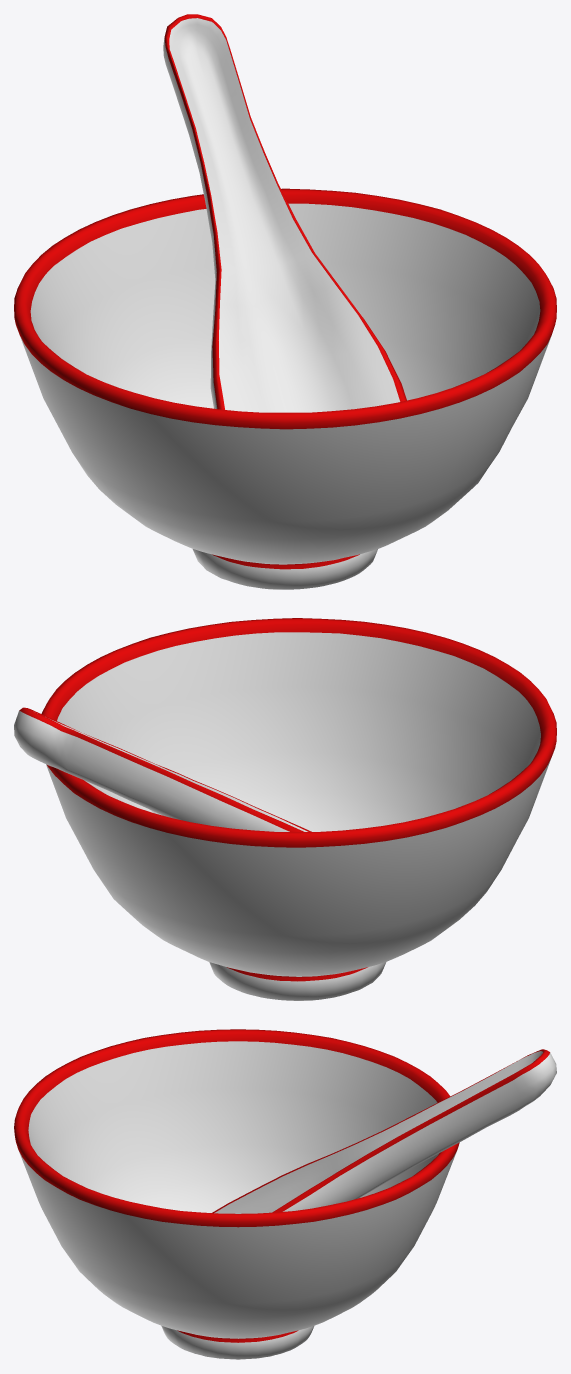
Rendered from bowl0.gltf.
The picture shows the model from 3 angles, top to bottom: view 1: azimuth 30°, elevation 25°; view 2: azimuth 150°, elevation 25°; view 3: azimuth 270°, elevation 25°; orthographic projection. The views are drawn at different scales.
Visible parts, largest first — view 1: 10917_Asian style soup set_v2_LOD3; view 2: 10917_Asian style soup set_v2_LOD3; view 3: 10917_Asian style soup set_v2_LOD3.
Part boxes in pixels (left/top/right/bottom): 10917_Asian style soup set_v2_LOD3: left=14, top=14, right=556, bottom=589; 10917_Asian style soup set_v2_LOD3: left=14, top=618, right=556, bottom=1000; 10917_Asian style soup set_v2_LOD3: left=14, top=1029, right=556, bottom=1359.
Size of the model in its own units: 5.26 by 4.07 by 6.39.
